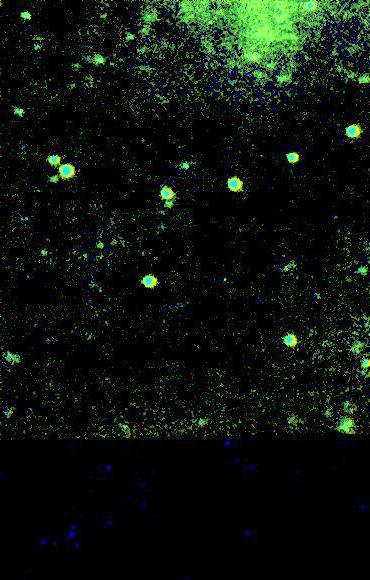star: (336, 407, 366, 437)
